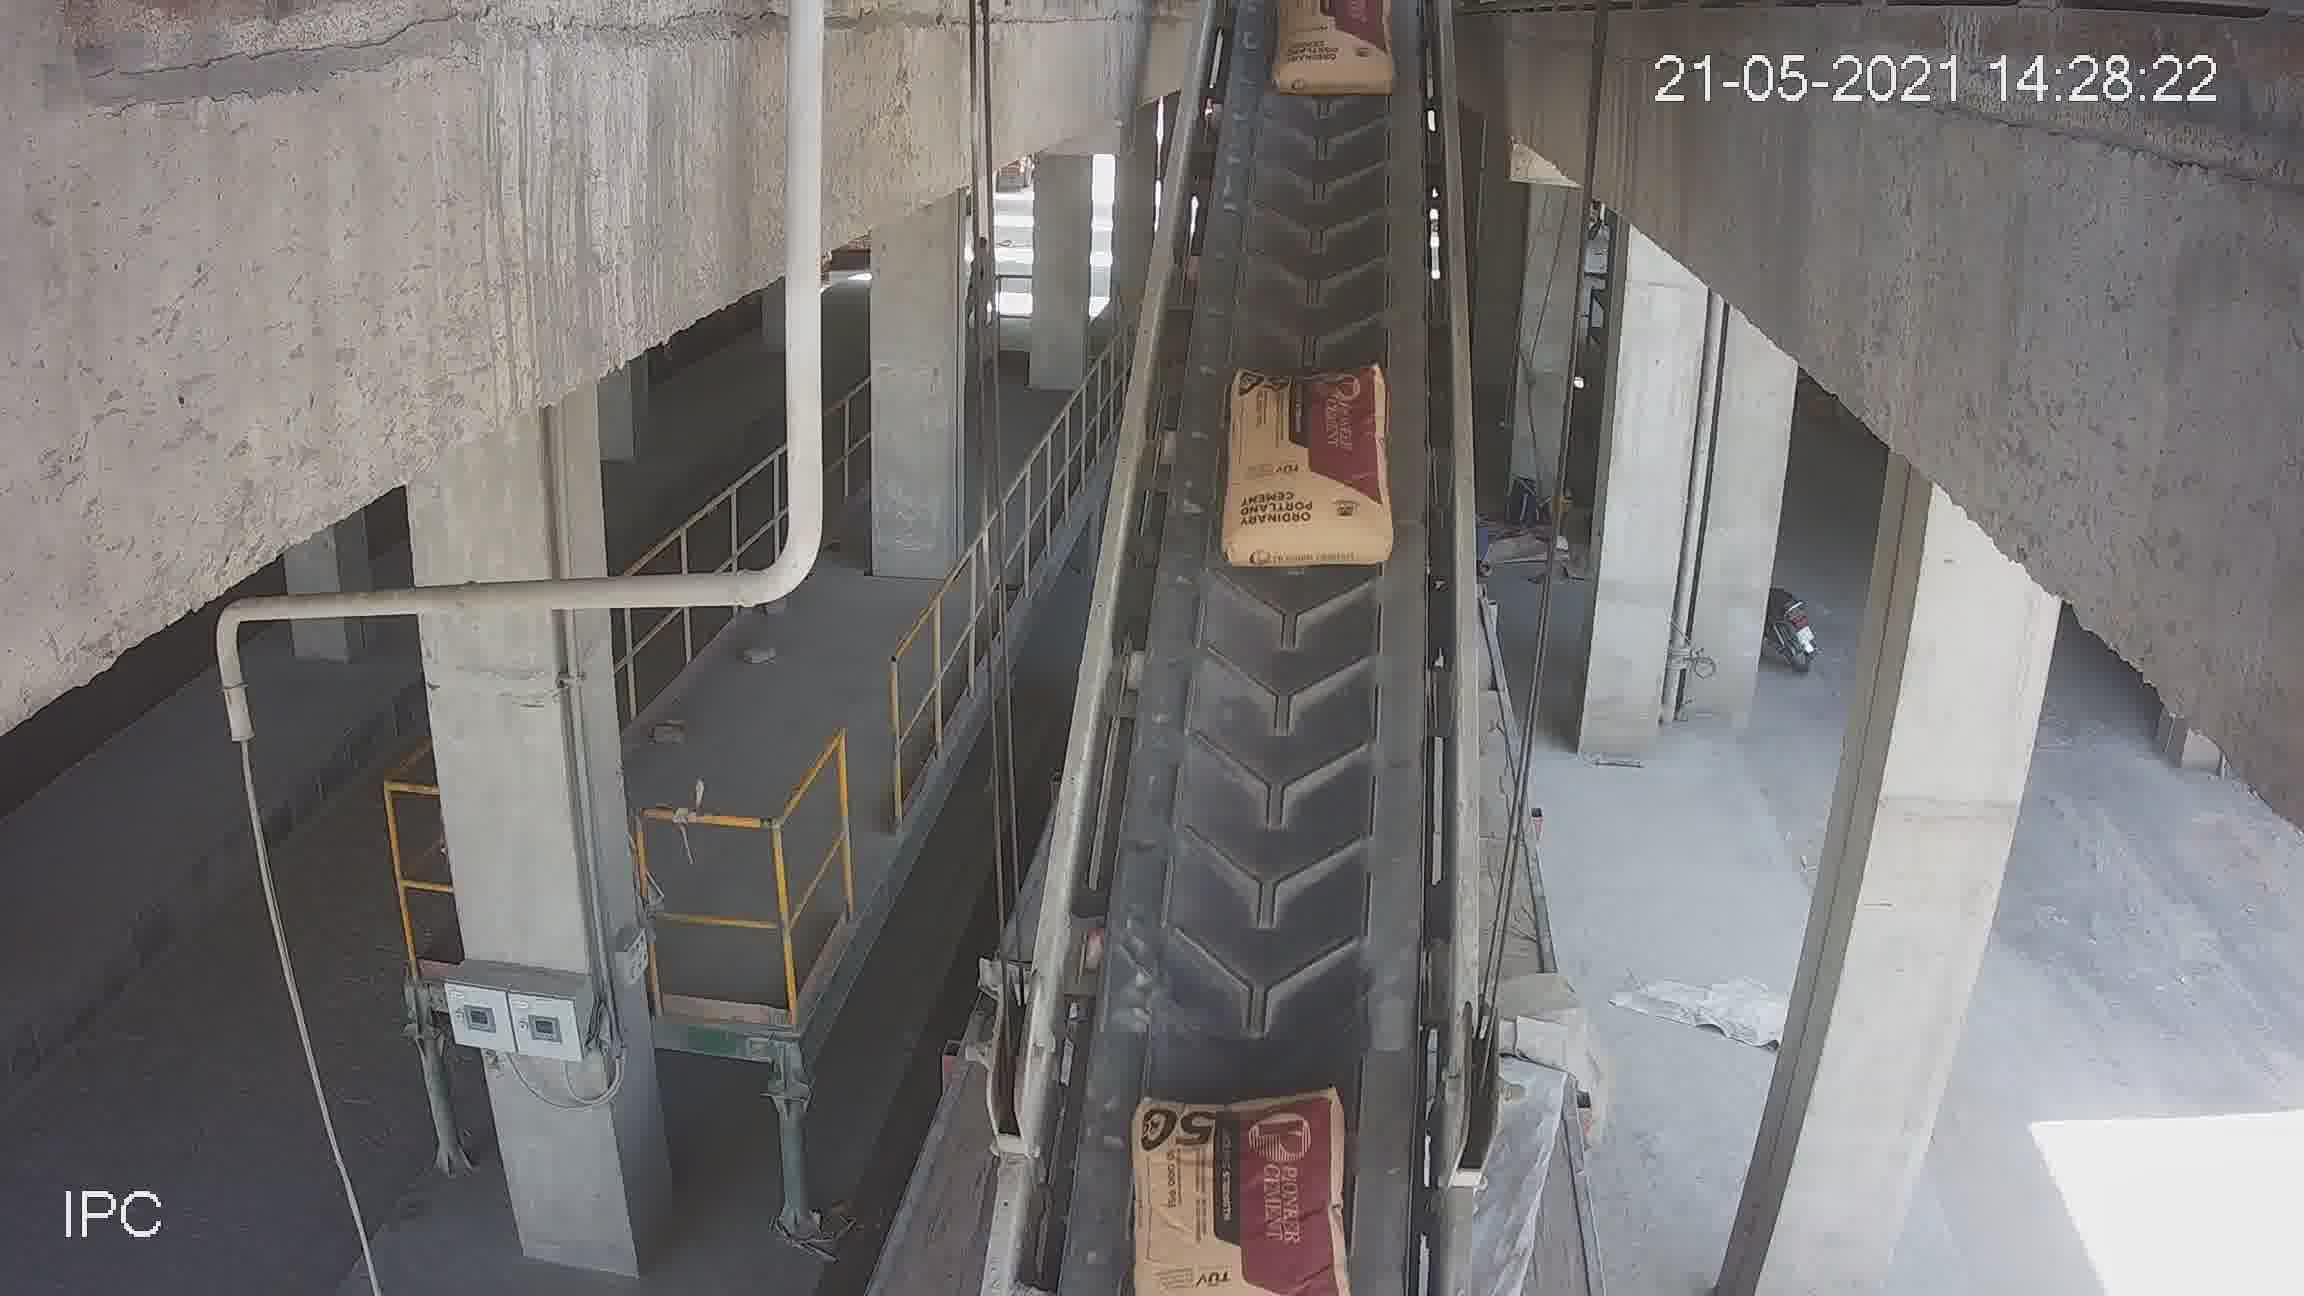bag: (1141, 1082, 1348, 1280), (1228, 358, 1385, 571), (1277, 5, 1383, 85)
belt: (1017, 44, 1483, 1296)
